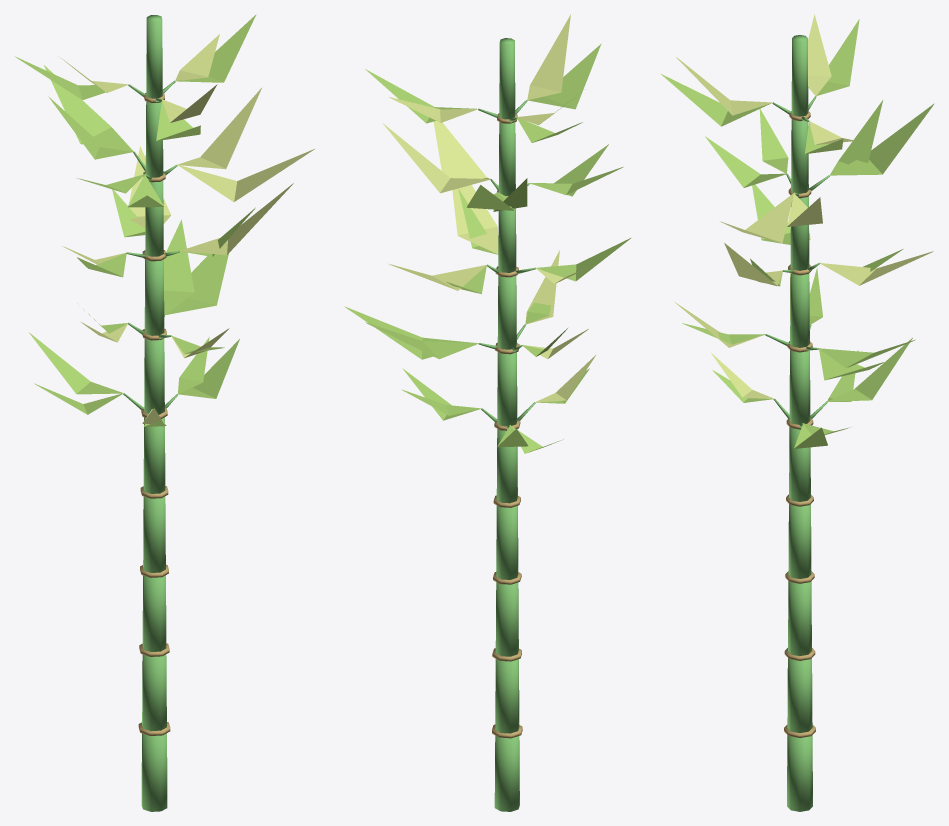
Rendered from bamboo_culm_tall.glb.
3 views of the same model, side by side, from view 1: azimuth 30°, elevation 25°; view 2: azimuth 150°, elevation 25°; view 3: azimuth 270°, elevation 25° (orthographic). The views are drawn at different scales.
Visible parts, largest first — view 1: bamboo_culm_tall; view 2: bamboo_culm_tall; view 3: bamboo_culm_tall.
Boxes of the visible parts, <box> form: bamboo_culm_tall: <box>15,14,314,811</box>; bamboo_culm_tall: <box>344,14,630,811</box>; bamboo_culm_tall: <box>661,14,934,811</box>.
Size of the model in its own units: 2.11 by 6.8 by 2.2.
